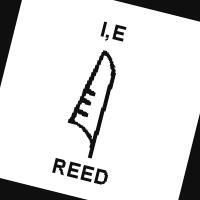Reed: (64, 48, 129, 159)
